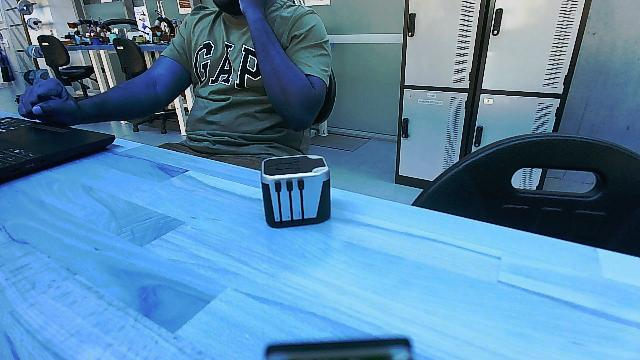adapter: (255, 149, 337, 229)
